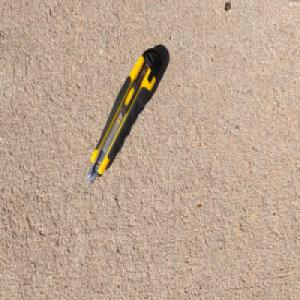Cutter: (85, 45, 163, 184)
